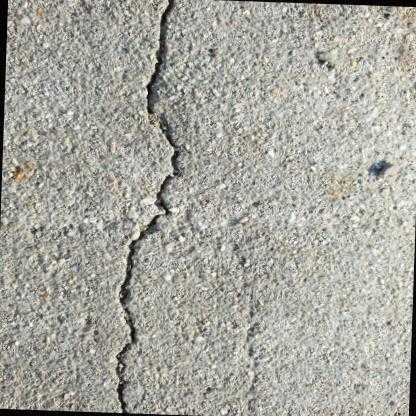crack: (112, 0, 184, 413)
